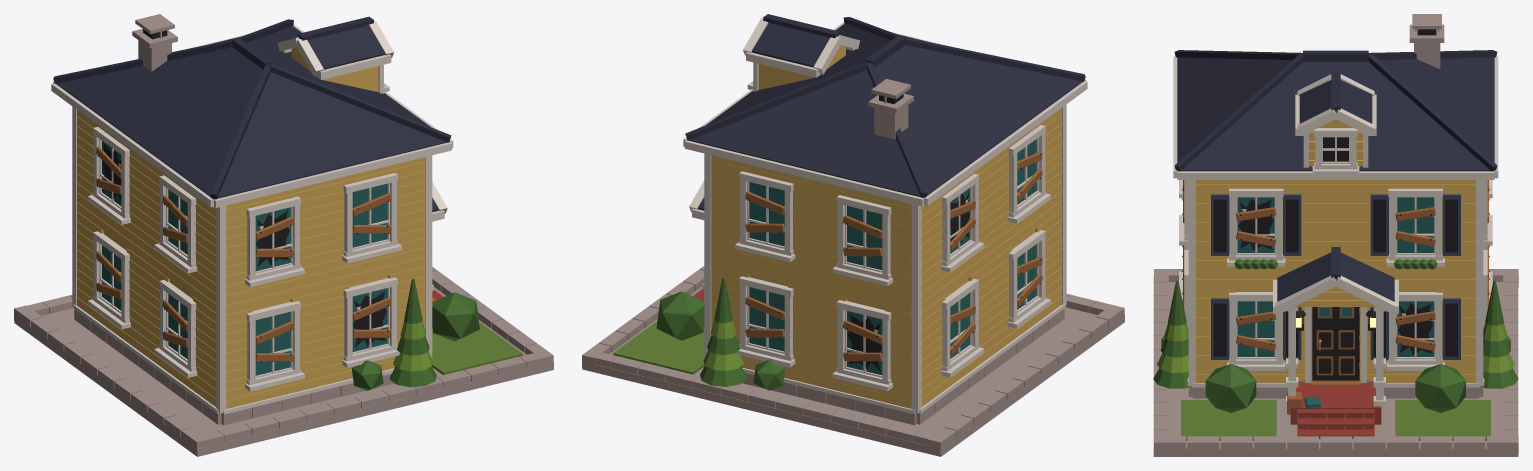
File: bld.house-d.w2.glb
3 renders of one model, left to right at view 1: azimuth 30°, elevation 25°; view 2: azimuth 150°, elevation 25°; view 3: azimuth 270°, elevation 25°, orthographic.
Parts seen in each view (by area): view 1: object 6, body, roof; view 2: object 6, body, roof; view 3: object 6, roof, body, door_front.
Part boxes in pixels (left/top/right/bottom): object 6: left=14, top=127, right=553, bottom=456; body: left=72, top=106, right=443, bottom=425; roof: left=51, top=14, right=453, bottom=221; object 6: left=582, top=125, right=1124, bottom=456; body: left=693, top=104, right=1066, bottom=425; roof: left=683, top=14, right=1087, bottom=220; object 6: left=1153, top=180, right=1518, bottom=456; roof: left=1173, top=14, right=1498, bottom=313; body: left=1187, top=180, right=1484, bottom=438; door_front: left=1312, top=307, right=1360, bottom=380.
Bounding box in the file's own units: 9 × 7.5 × 8.02.
